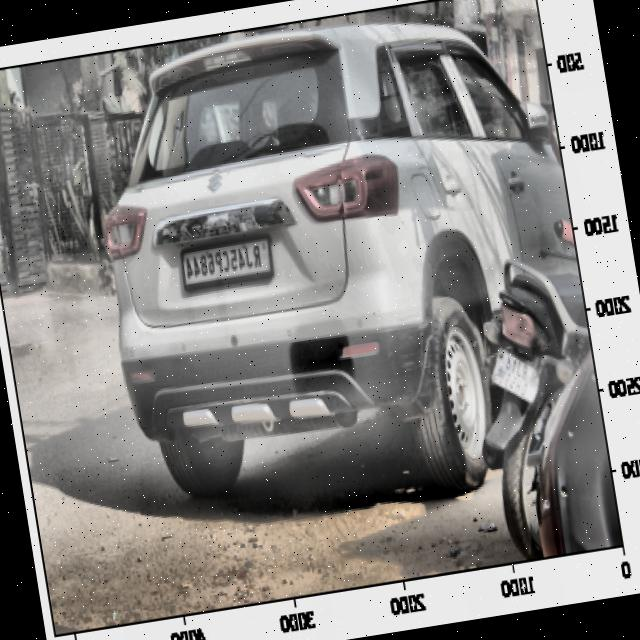license_plate: (176, 238, 269, 289)
